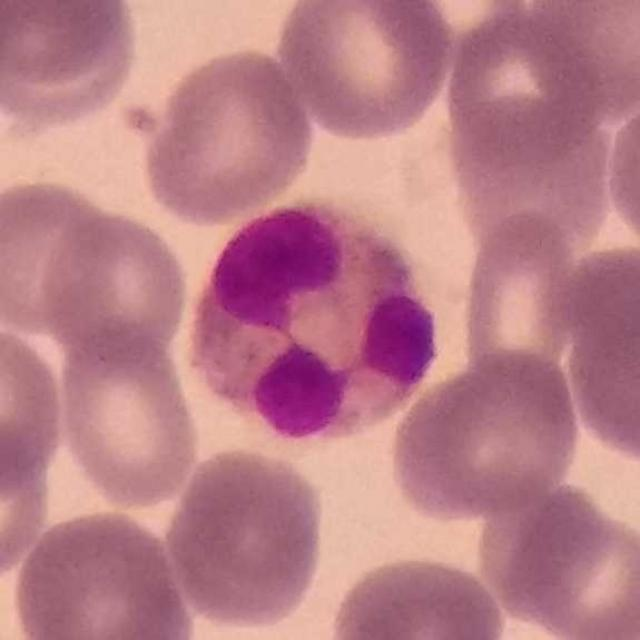Eosinophil: (180, 194, 446, 448)
RBC: (385, 345, 584, 523), (137, 42, 318, 227), (162, 442, 330, 633), (441, 98, 619, 267), (439, 2, 613, 169), (51, 325, 204, 514), (274, 0, 457, 144), (38, 202, 192, 370), (7, 505, 197, 640), (492, 484, 640, 640), (456, 210, 586, 384), (0, 172, 122, 337), (0, 0, 145, 126), (557, 250, 640, 466), (325, 551, 510, 640), (518, 0, 640, 119), (0, 318, 70, 494), (247, 333, 352, 447), (370, 0, 538, 59), (355, 287, 445, 396), (0, 424, 57, 587), (601, 89, 640, 258), (569, 583, 640, 640)
